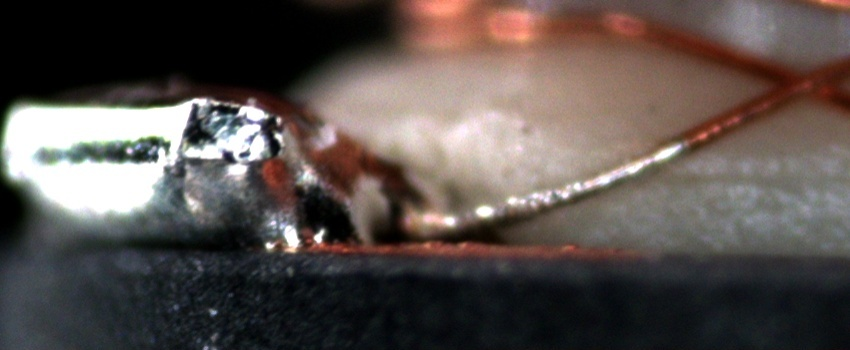CL: (754, 54, 838, 113)
DL: (657, 145, 850, 203)
TS: (413, 137, 689, 237)
